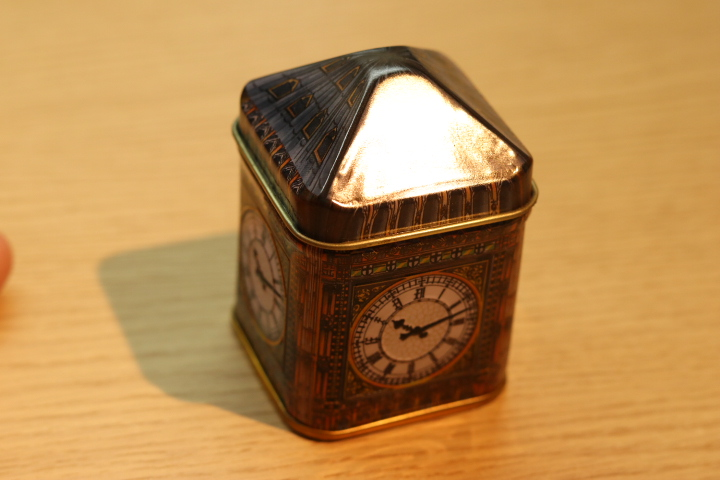Big Ben: (228, 28, 548, 446)
